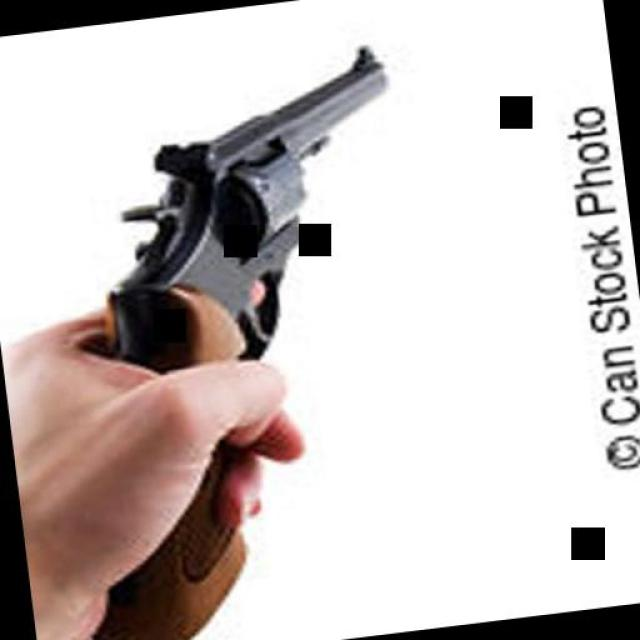gun: (10, 34, 452, 640)
